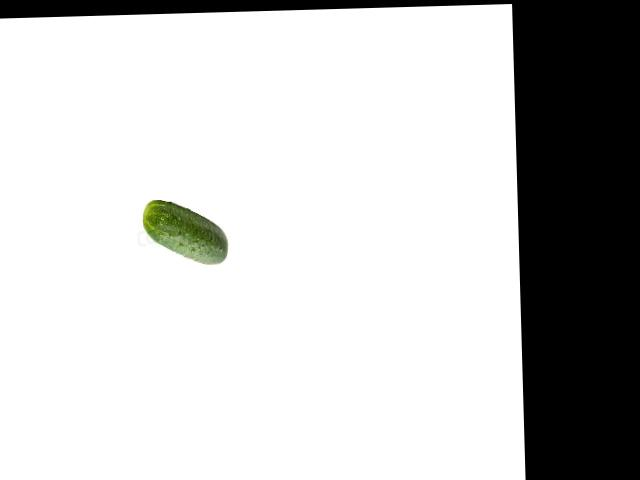cucumber: (142, 198, 229, 266)
